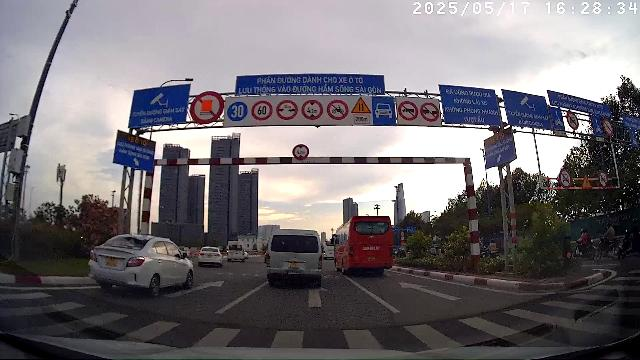103a-cam-oto: (559, 168, 573, 189), (566, 110, 579, 130), (597, 170, 609, 188)
127-toc-do-toi-da-60: (250, 100, 273, 122)
